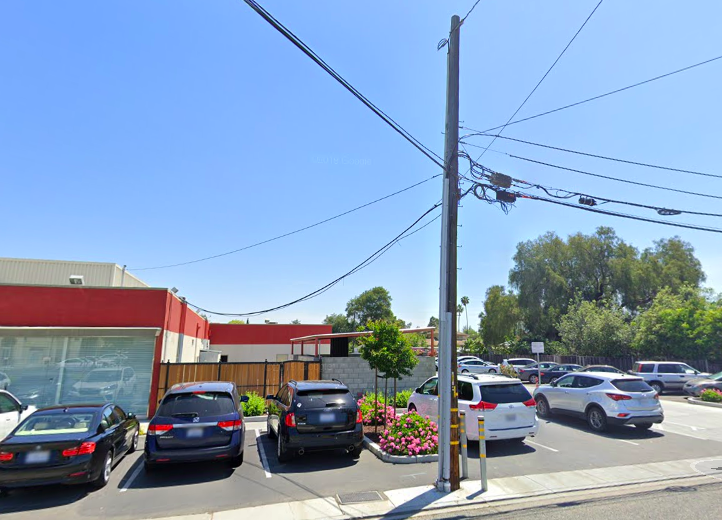utility_pole: (425, 9, 519, 234)
